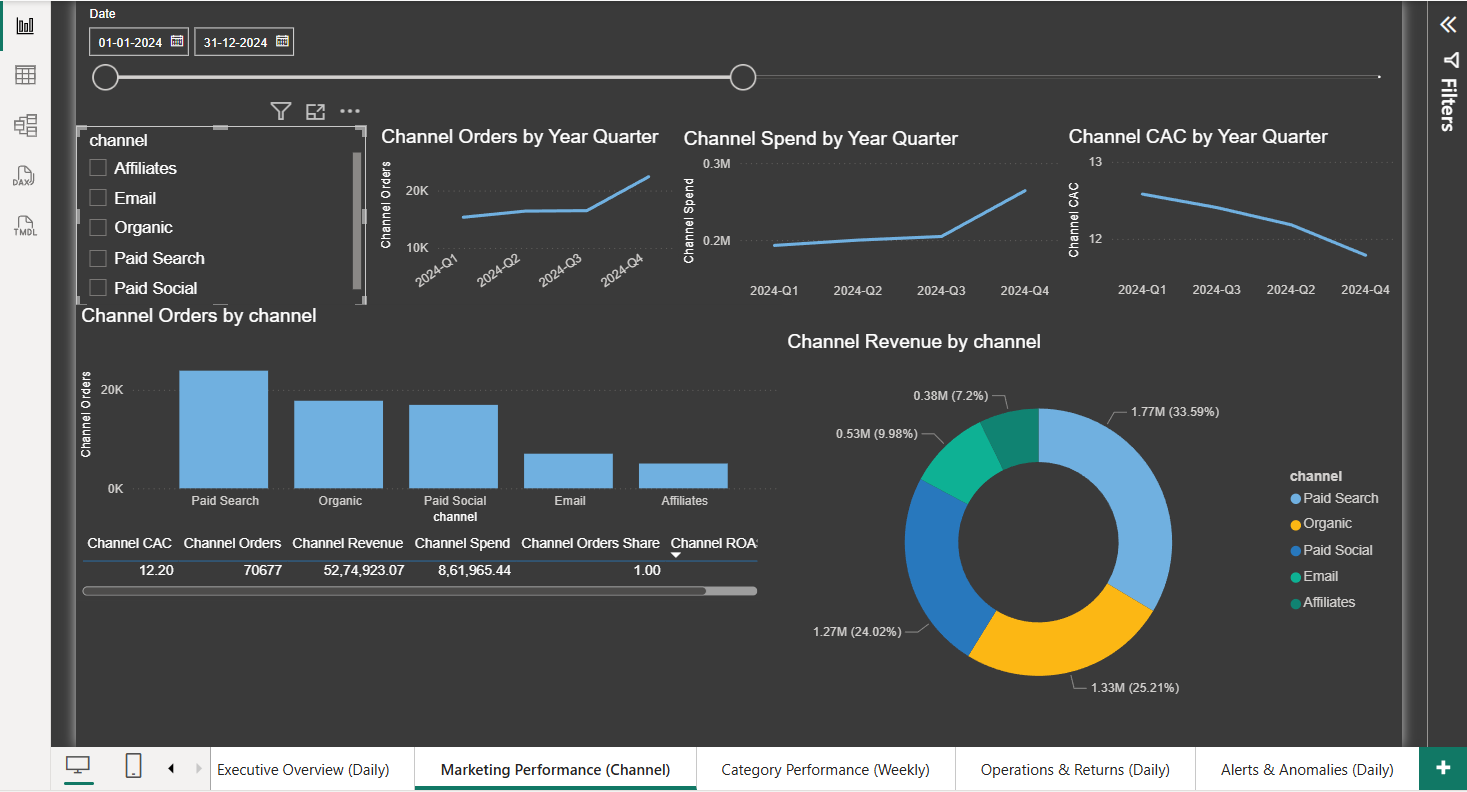

The dashboard page shown, as its layout file describes it:
{"tool":"powerbi","page":{"name":"Marketing Performance (Channel)","canvas":[1280,720],"ordinal":1},"visuals":[{"type":"slicer","fields":{"Values":["DimDate2.Date"]},"box":[0,0,1280.3,120.8],"z":0},{"type":"slicer","fields":{"Values":["gold_daily_channel_kpis.channel"]},"box":[0,120.8,279.9,174.3],"z":1000},{"type":"lineChart","fields":{"Y":["DimDate2.Channel Orders"],"Category":["DimDate2.YearQuarter"]},"box":[289.5,120.8,292.3,172.9],"z":2000},{"type":"lineChart","fields":{"Y":["DimDate2.Channel Spend"],"Category":["DimDate2.Year Quarter"]},"box":[581.8,122.1,371.9,174.3],"z":3000},{"type":"lineChart","fields":{"Y":["DimDate2.Channel CAC"],"Category":["DimDate2.Year Quarter"]},"box":[953.7,120.8,326.6,174.3],"z":4000},{"type":"clusteredColumnChart","fields":{"Category":["gold_daily_channel_kpis.channel"],"Y":["DimDate2.Channel Orders"]},"box":[0,293.2,681.6,216],"z":5000},{"type":"donutChart","fields":{"Category":["gold_daily_channel_kpis.channel"],"Y":["DimDate2.Channel Revenue"]},"box":[681.6,318.5,589.9,387.3],"z":6000},{"type":"tableEx","fields":{"Values":["DimDate2.Channel CAC","DimDate2.Channel Orders","DimDate2.Channel Revenue","DimDate2.Channel Spend","DimDate2.Channel Orders Share","DimDate2.Channel ROAS Proxy"]},"box":[0,509.1,662.3,70],"z":7000}]}

Visuals, with their boxes on the page's 1280x720 design canvas (x1, y1, x2, y2). These are canvas units, not pixel positions in the 1467x792 screenshot, which may show the page scaled, cropped or inside an application window:
slicer - DimDate2.Date: (x1=0, y1=0, x2=1280, y2=121)
slicer - gold_daily_channel_kpis.channel: (x1=0, y1=121, x2=280, y2=295)
lineChart - DimDate2.Channel Orders x DimDate2.YearQuarter: (x1=290, y1=121, x2=582, y2=294)
lineChart - DimDate2.Channel Spend x DimDate2.Year Quarter: (x1=582, y1=122, x2=954, y2=296)
lineChart - DimDate2.Channel CAC x DimDate2.Year Quarter: (x1=954, y1=121, x2=1280, y2=295)
clusteredColumnChart - gold_daily_channel_kpis.channel x DimDate2.Channel Orders: (x1=0, y1=293, x2=682, y2=509)
donutChart - gold_daily_channel_kpis.channel x DimDate2.Channel Revenue: (x1=682, y1=318, x2=1272, y2=706)
tableEx - DimDate2.Channel CAC x DimDate2.Channel Orders: (x1=0, y1=509, x2=662, y2=579)
